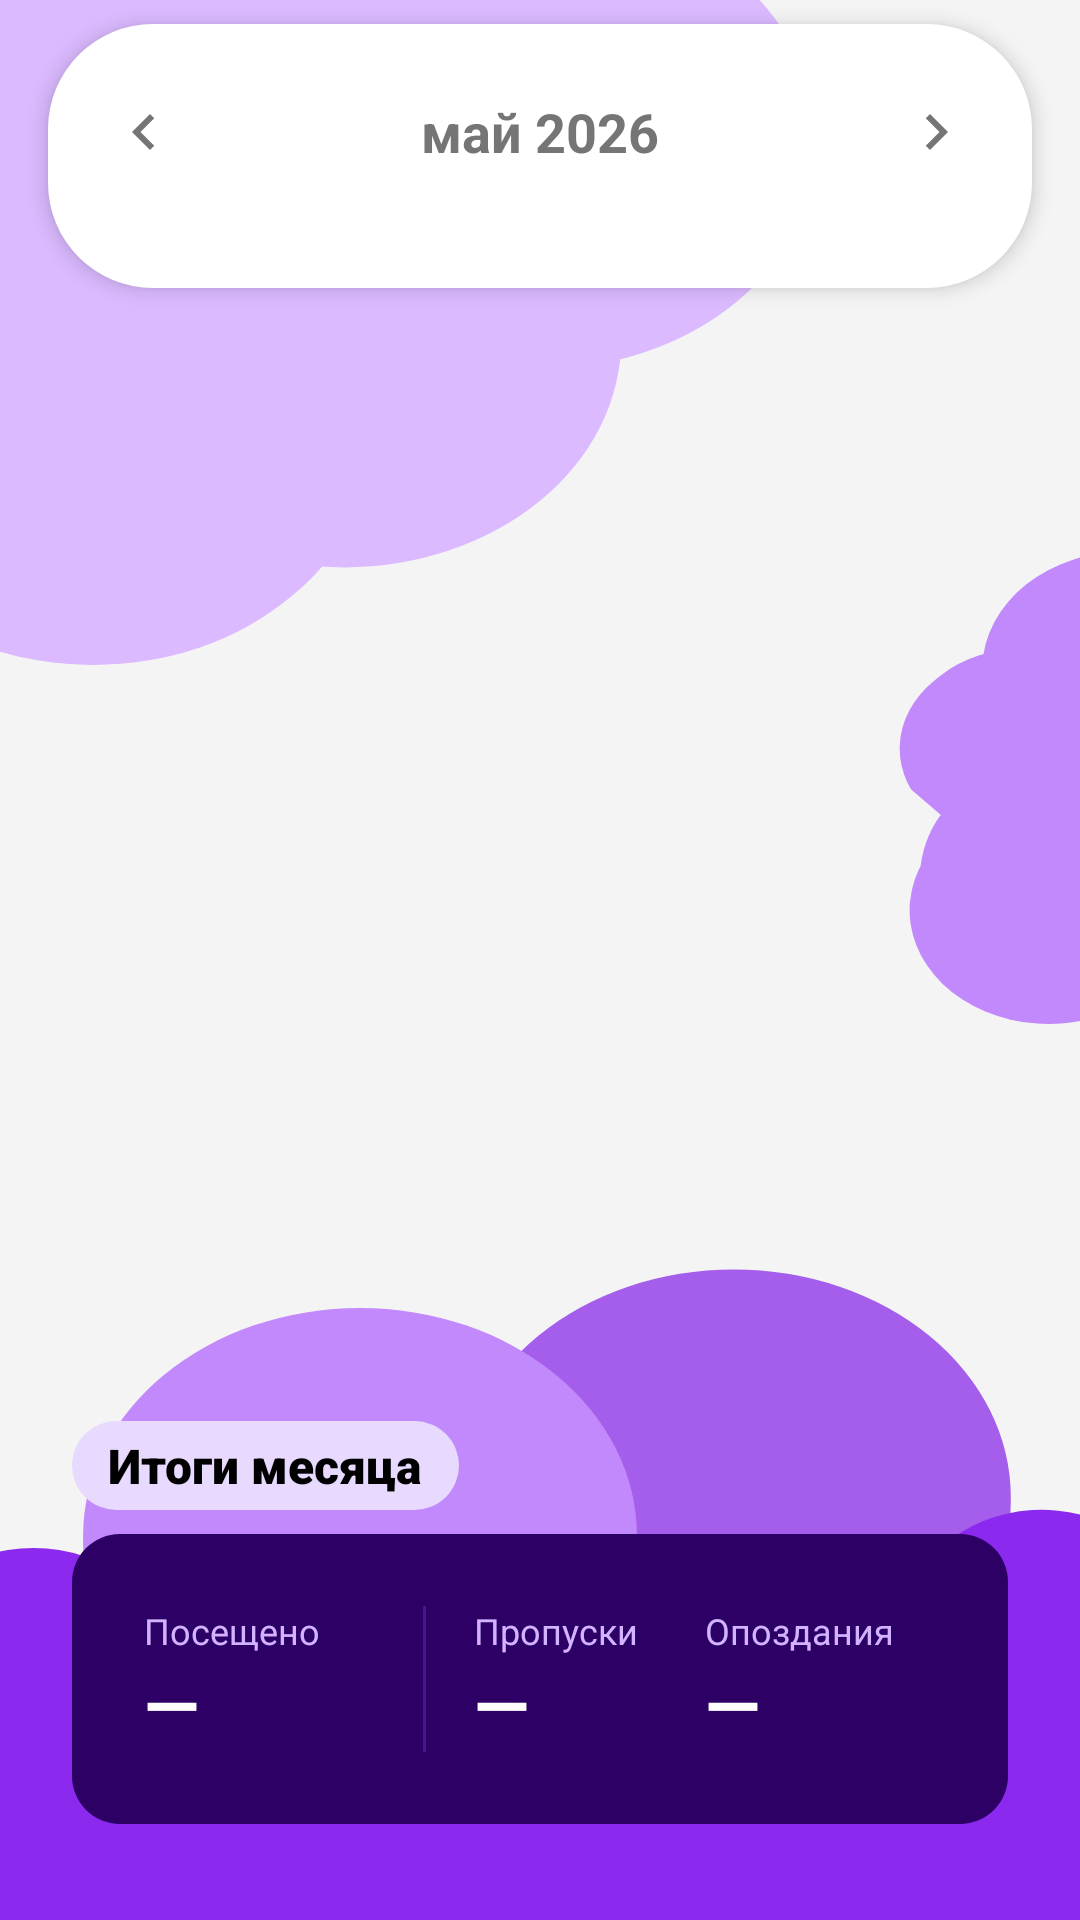

Locate icon controls on the screen. Image size 1080 × 1920, boxes as (x1, y1, x2, y2).
Предыдущий месяц: (132, 114, 154, 150)
Следующий месяц: (926, 114, 948, 150)
